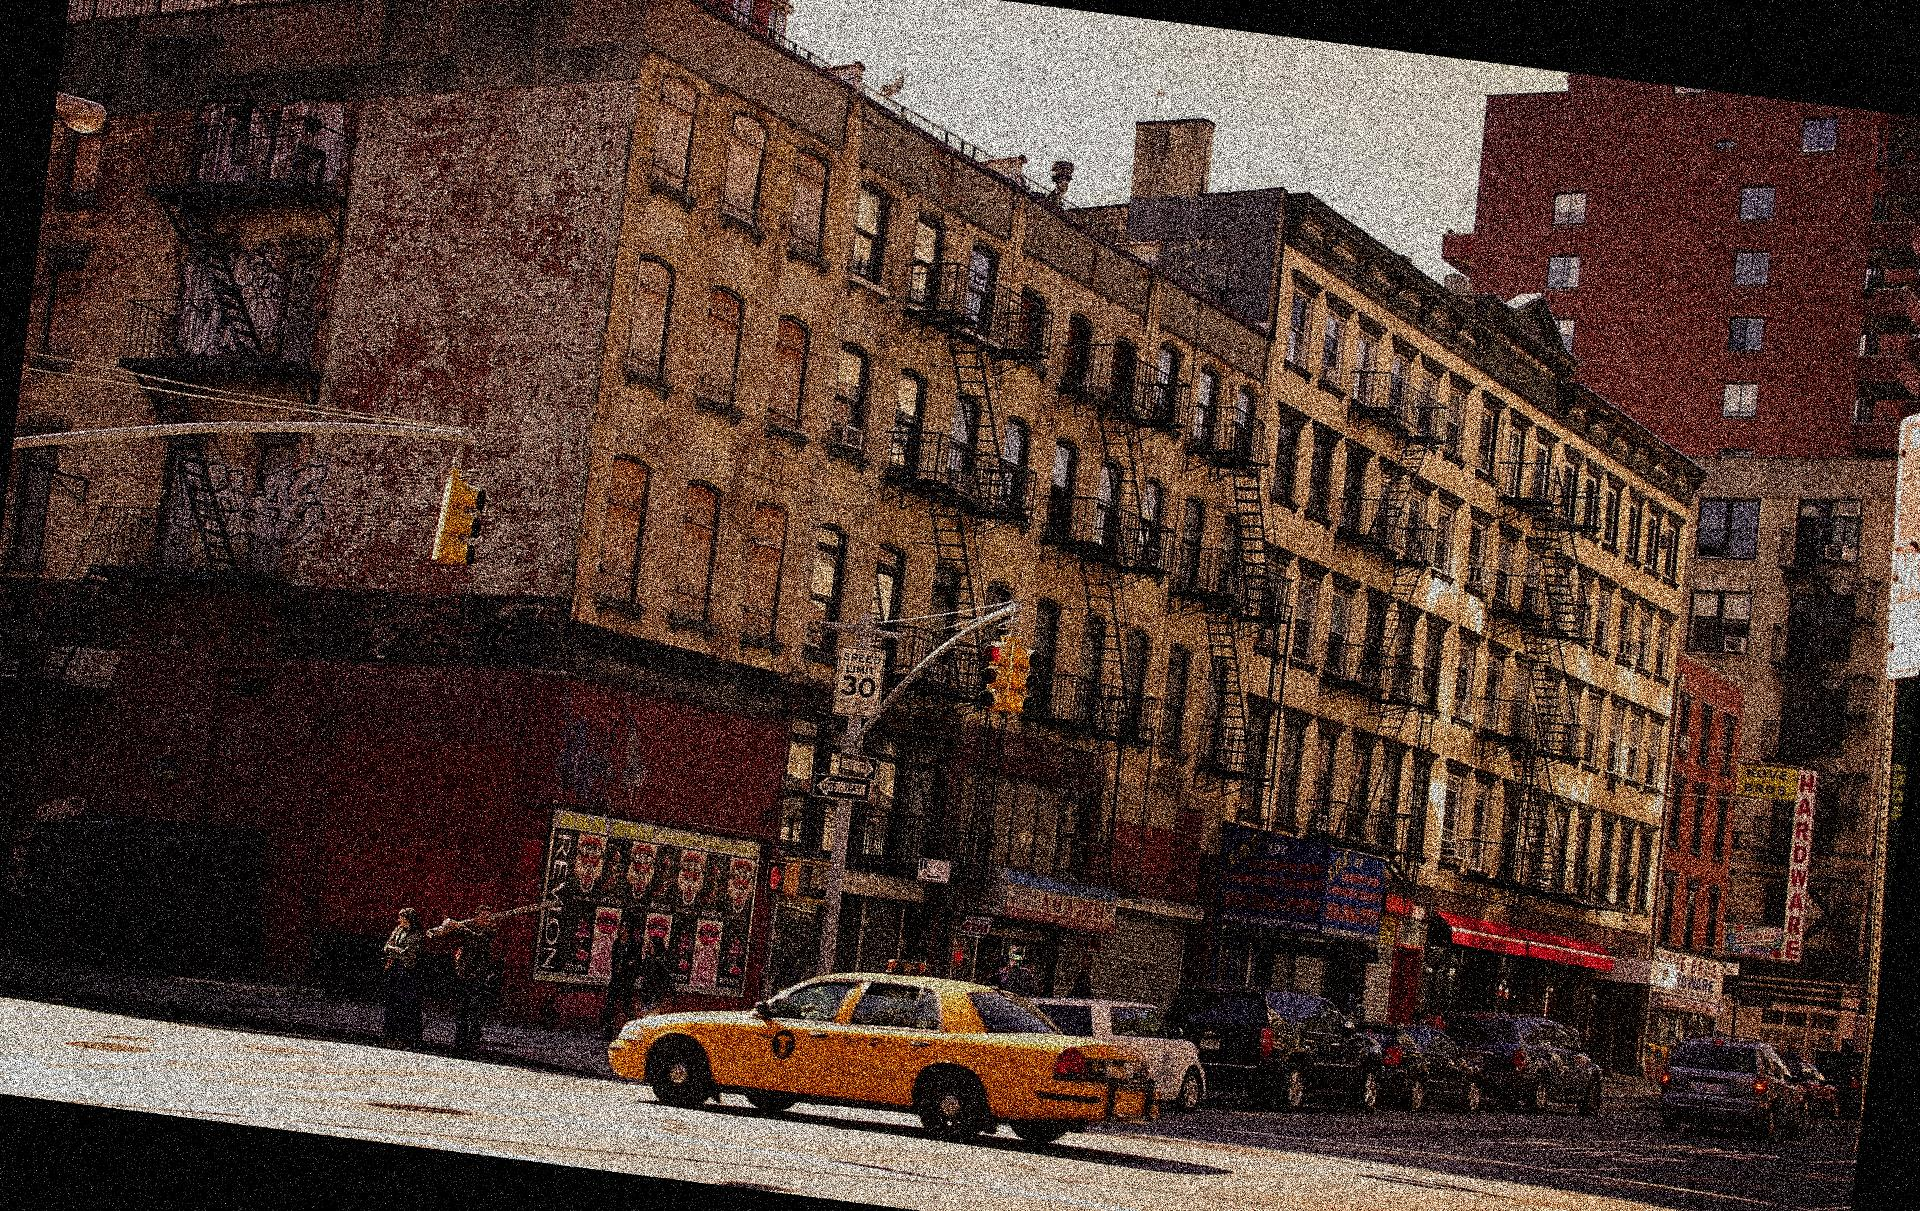taxi: (603, 933, 1141, 1138)
